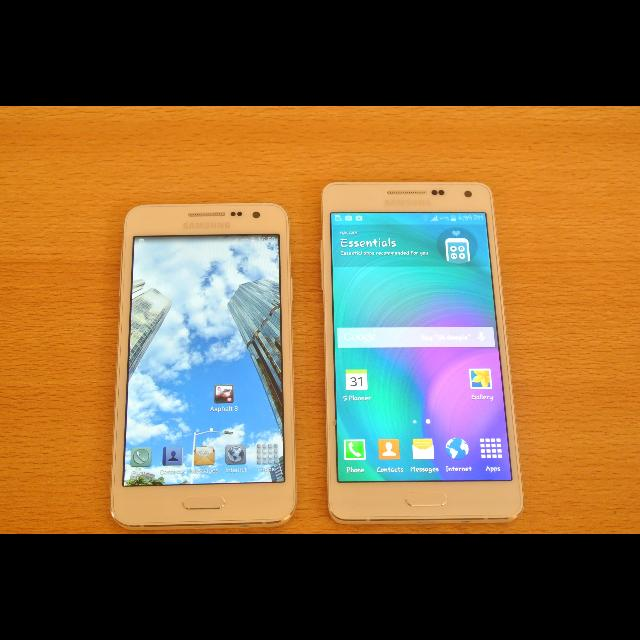Smartphone: (321, 183, 523, 523), (109, 203, 297, 532)
